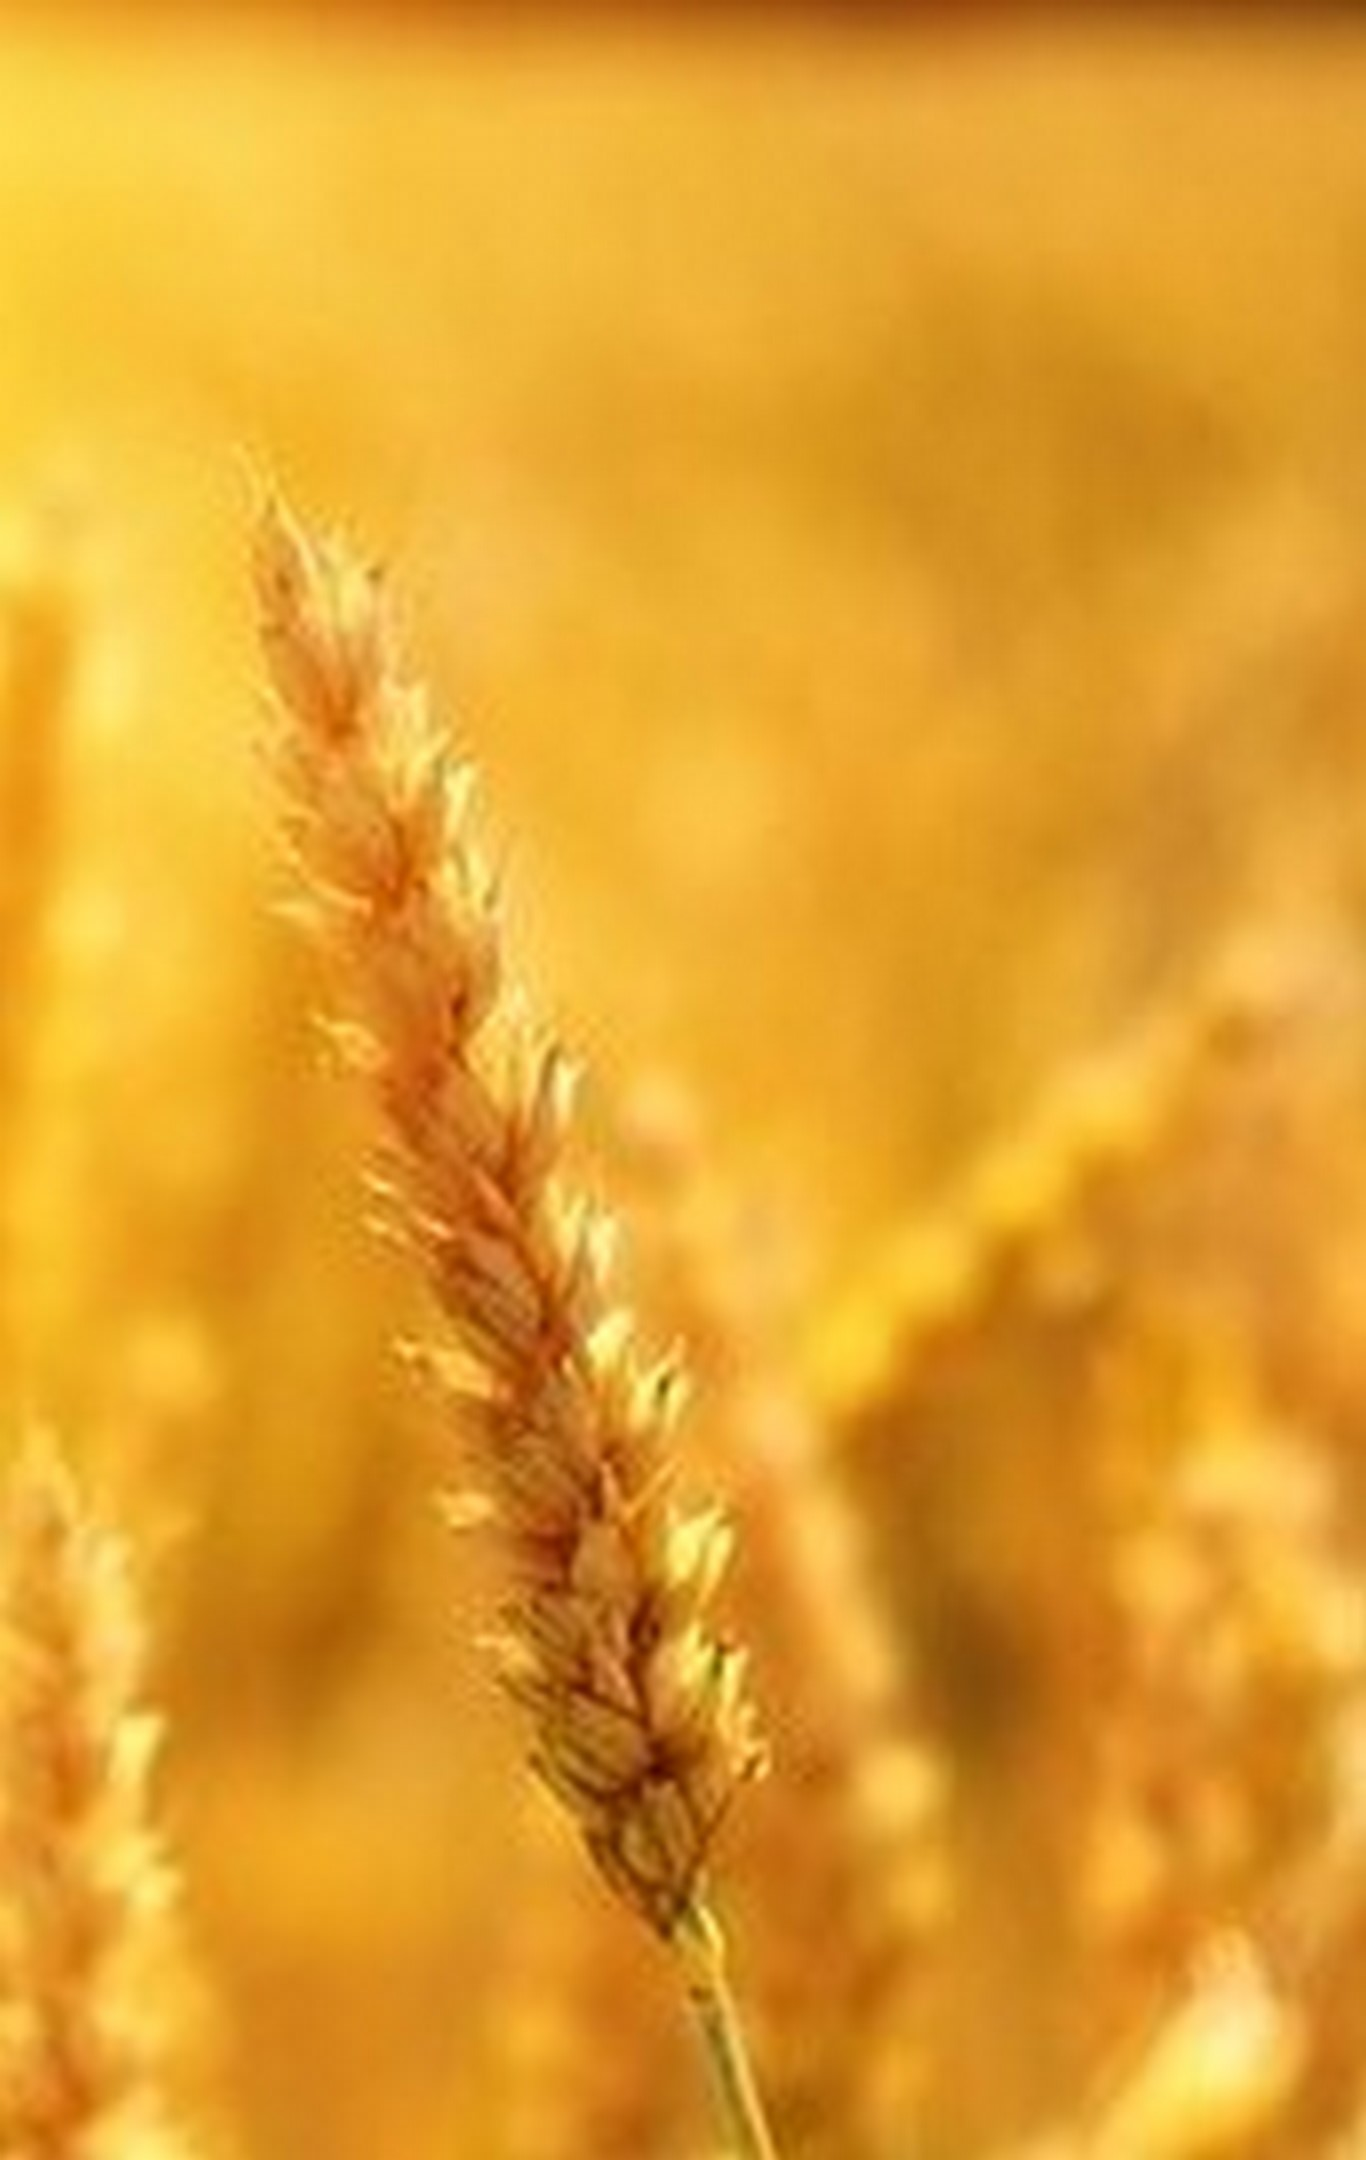Healthy Wheat: (223, 488, 855, 1904)
